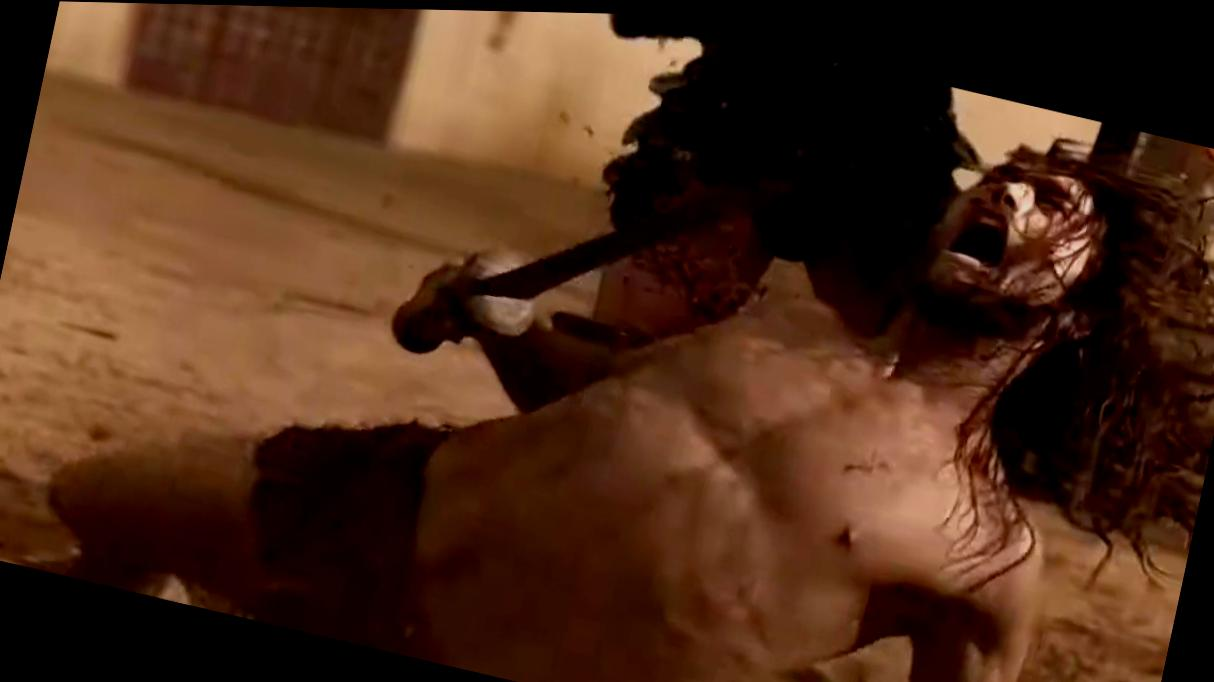Fire: (634, 213, 755, 318), (603, 140, 704, 223)
